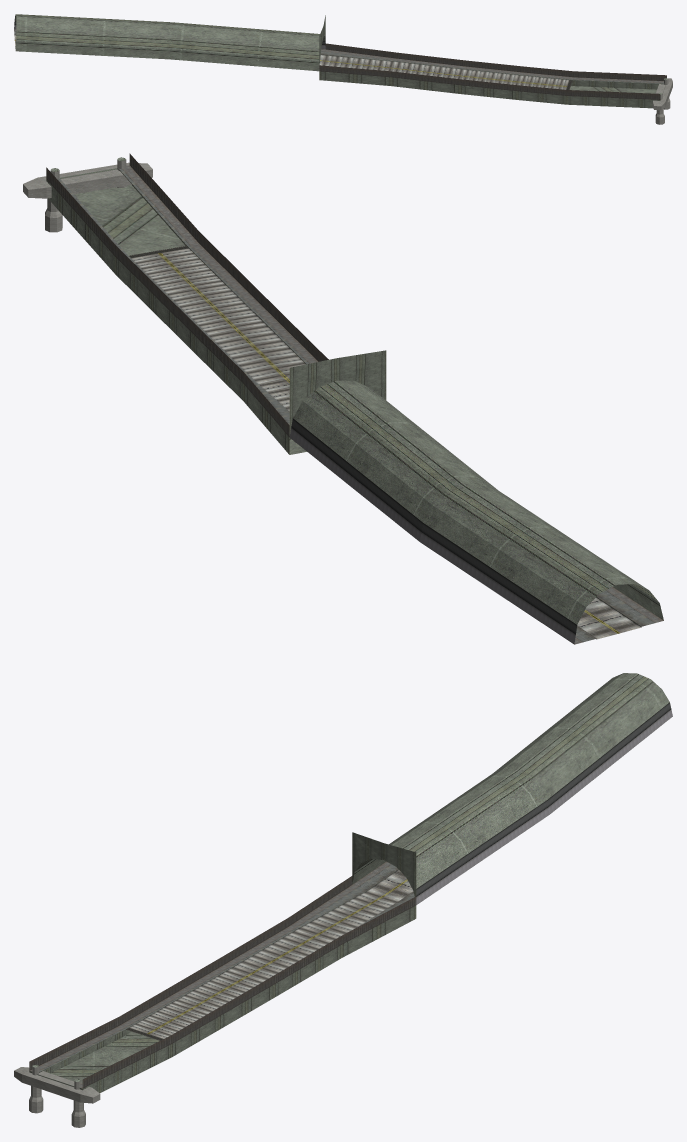
The model's file is tcelawcuntuna_law2.obj.
3 views of the same model, one above another, from view 1: azimuth 30°, elevation 25°; view 2: azimuth 150°, elevation 25°; view 3: azimuth 270°, elevation 25° (orthographic). The views are drawn at different scales.
Visible parts, largest first — view 1: TCElawcuntuna_law2; view 2: TCElawcuntuna_law2; view 3: TCElawcuntuna_law2.
Part boxes in pixels (x1,y1,x2,y2): TCElawcuntuna_law2: (14, 14, 672, 124); TCElawcuntuna_law2: (23, 153, 663, 644); TCElawcuntuna_law2: (14, 673, 672, 1127).
Size of the model in its own units: 214 by 29.42 by 165.
